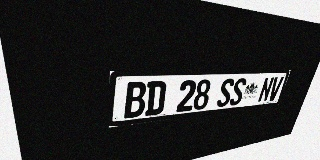2: (176, 80, 197, 112)
8: (192, 79, 213, 110)
B: (124, 81, 147, 119)
D: (145, 81, 167, 116)
N: (257, 77, 275, 102)
S: (216, 78, 235, 107), (229, 78, 247, 106)
V: (267, 77, 284, 101)
